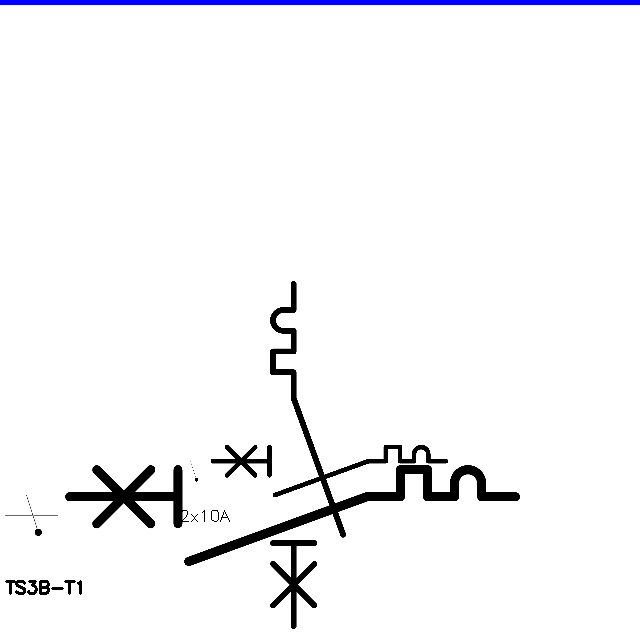interruptor_termomagnetico: (58, 458, 527, 573), (264, 275, 352, 634), (206, 441, 451, 501)
